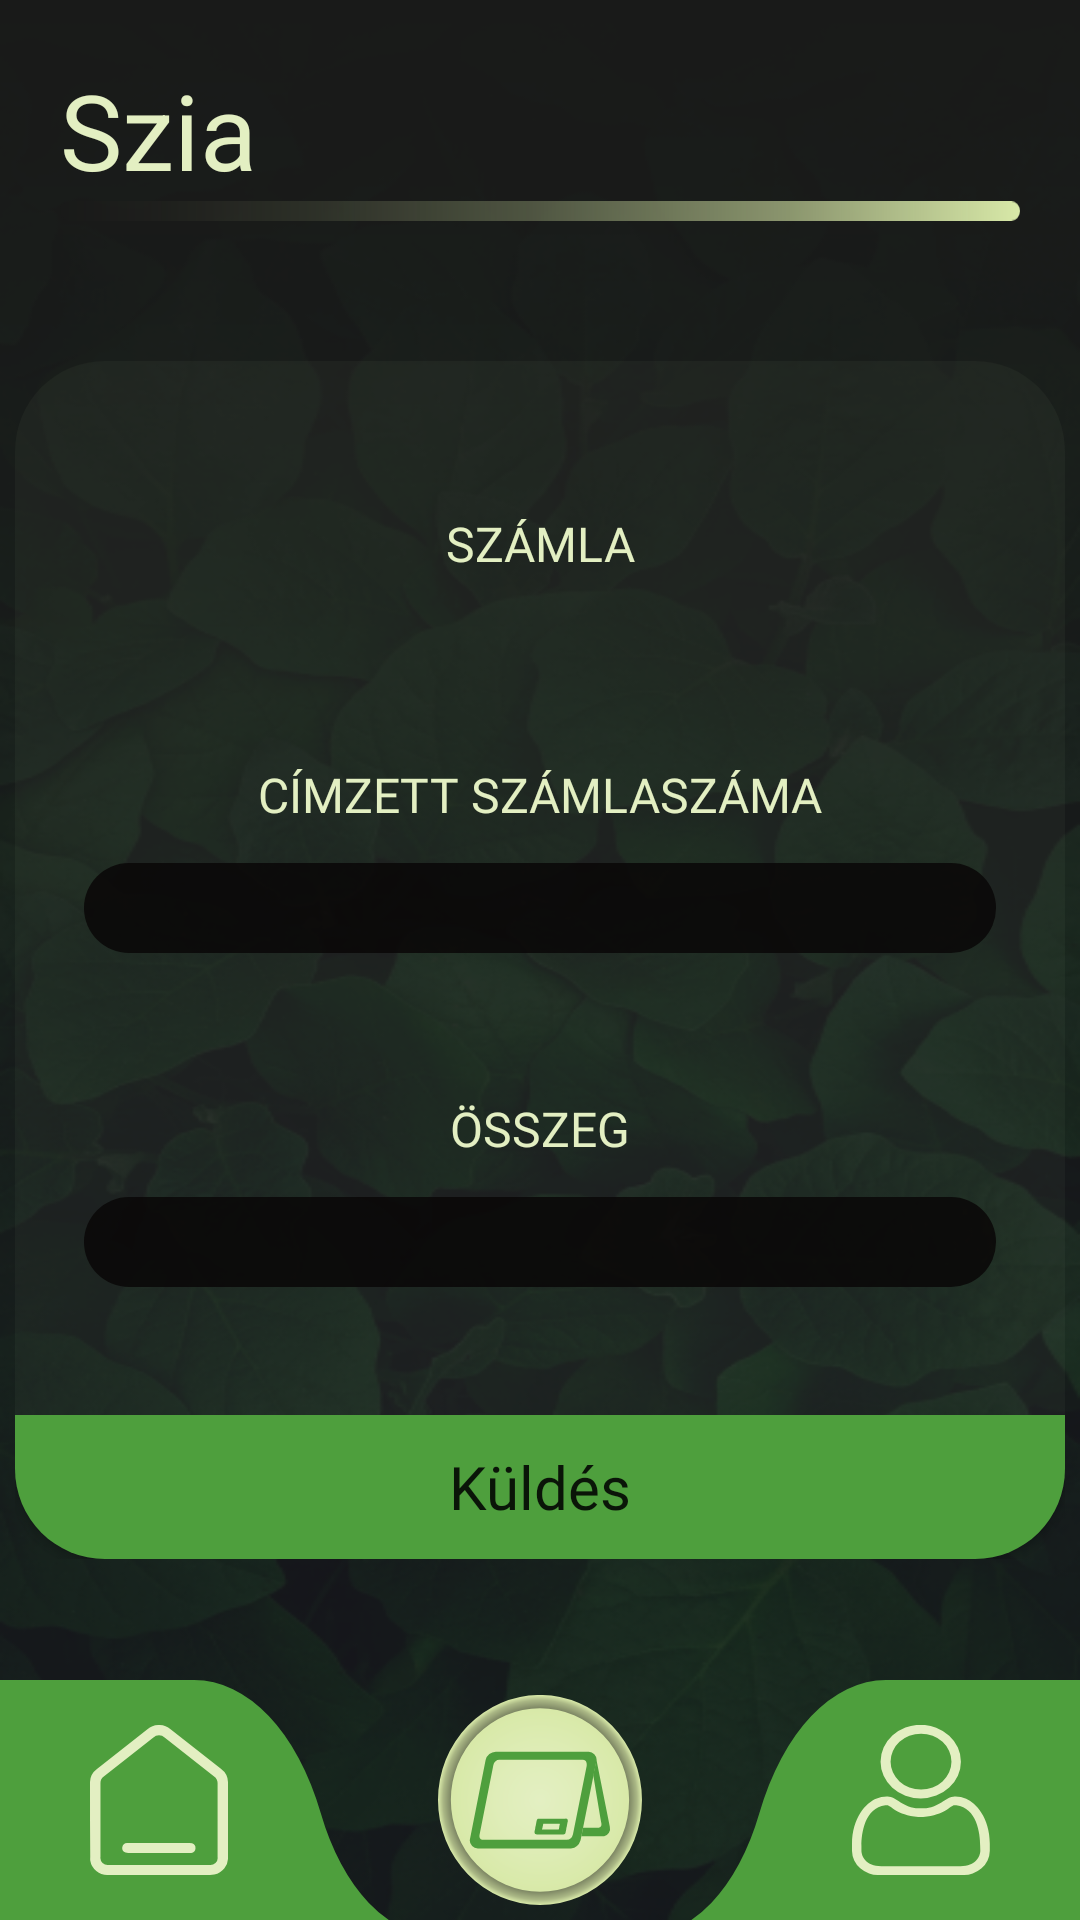

Screen size 1080x1920. Icon name, then its center in pixels as (x=x, y=y):
home: (x=159, y=1800)
home profile: (x=921, y=1800)
